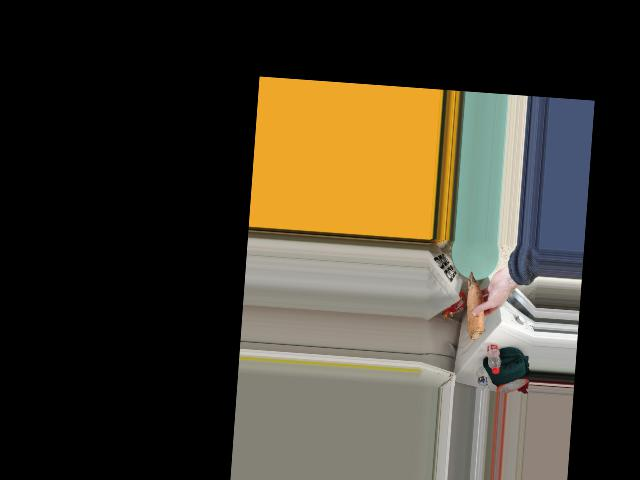sweet_potato: (466, 275, 489, 343)
